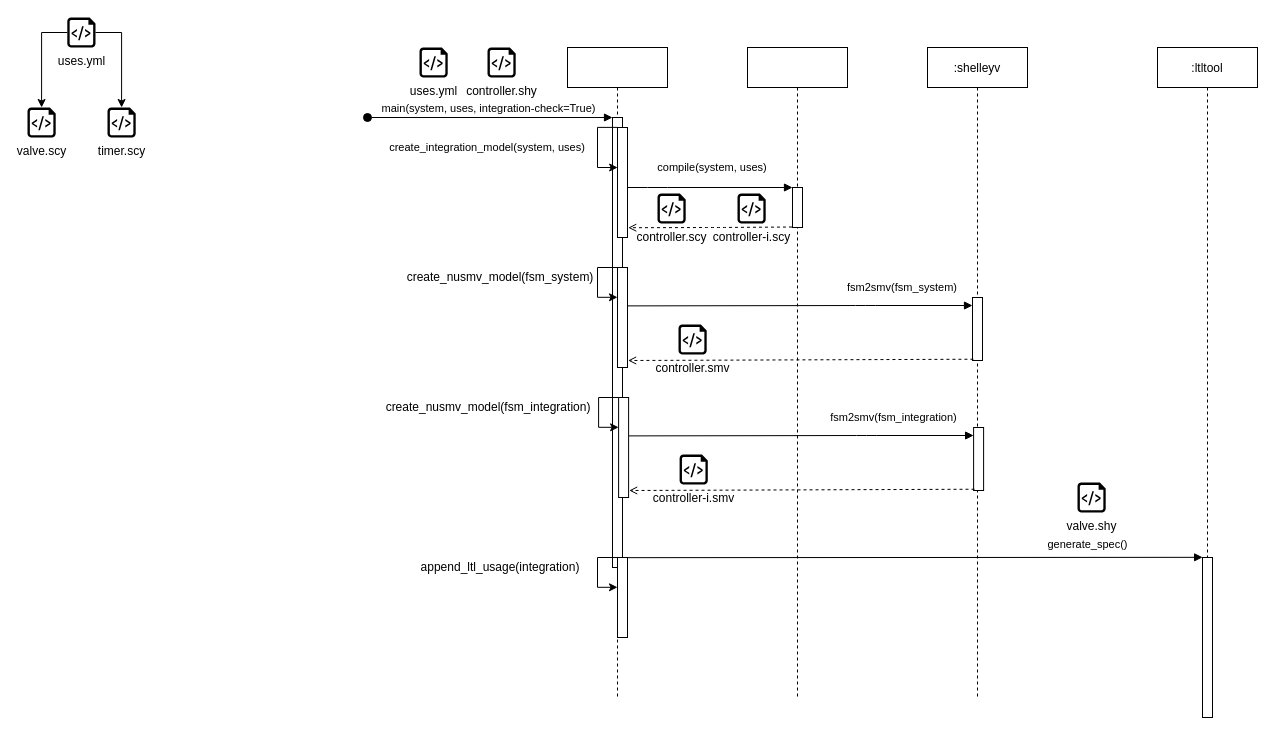
The diagram is 1275 pixels wide and 735 high, and some of its shapes have lost their labels. The box of each missing label's shape, as (x1, y1, x2, y2) in pixels:
:shelleyc: (746, 46, 848, 698)
:shelleymc: (566, 46, 668, 698)
